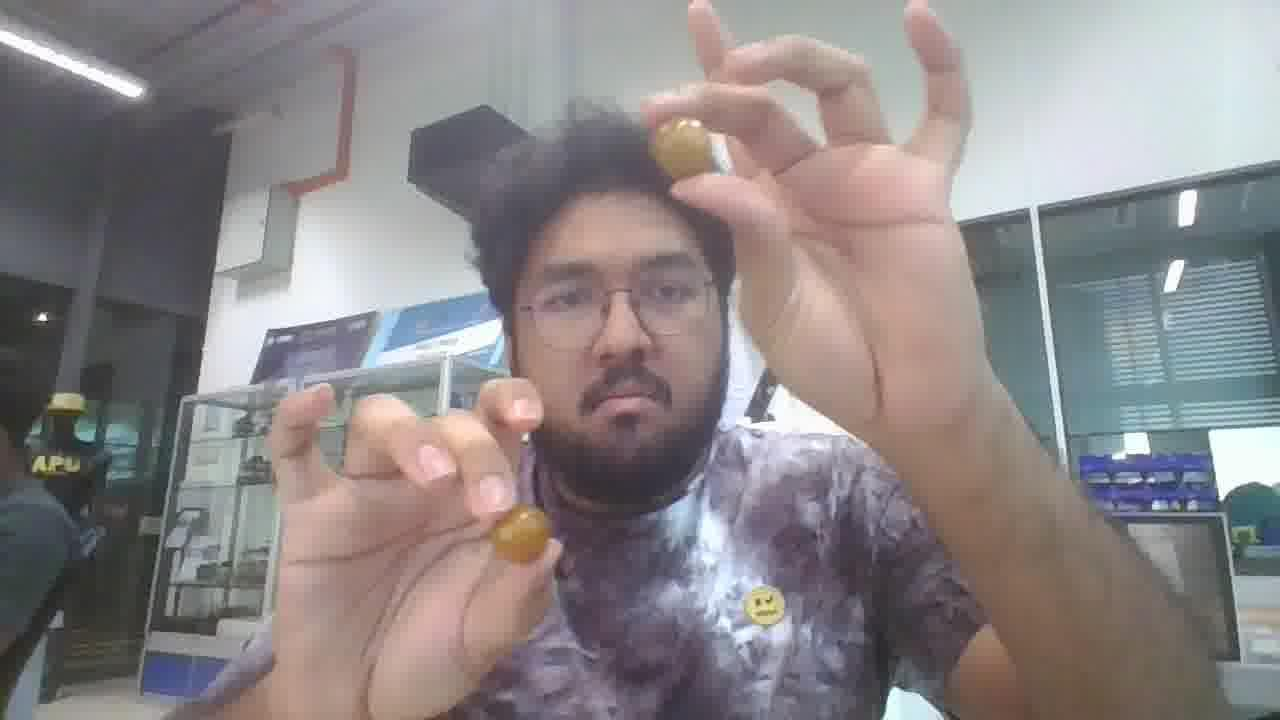yellow_cherry_tomato: (650, 119, 719, 179), (490, 504, 551, 563)
